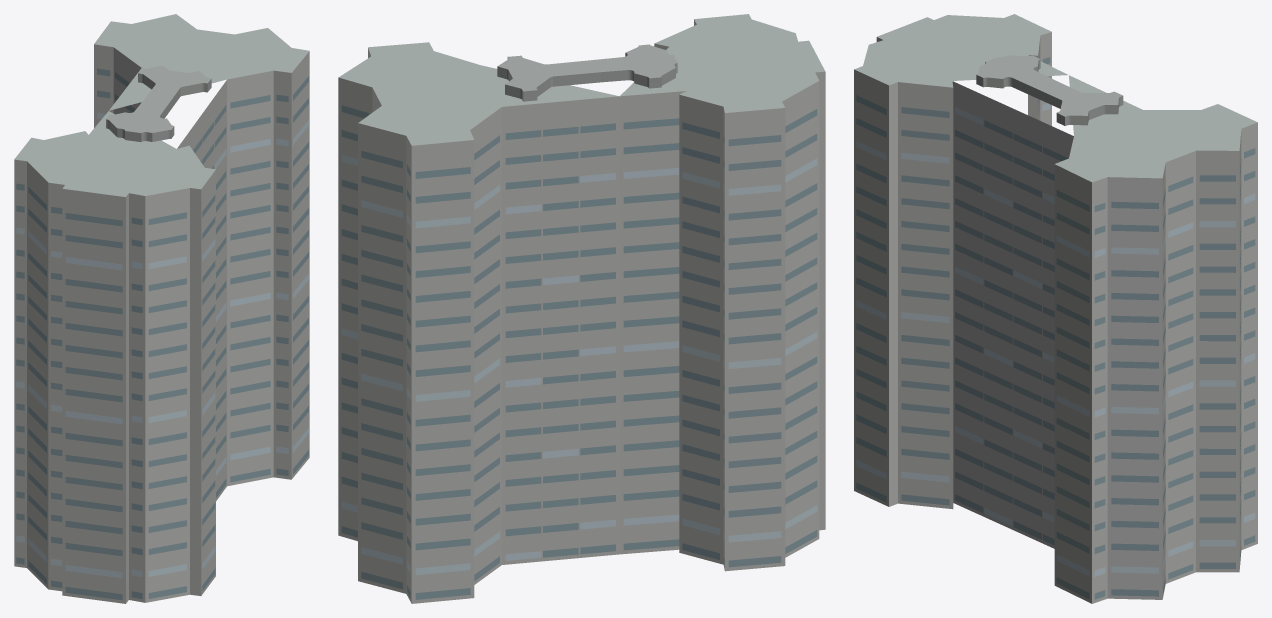
File: apt-a12170402.glb
3 views of the same model, side by side, from view 1: azimuth 30°, elevation 25°; view 2: azimuth 150°, elevation 25°; view 3: azimuth 270°, elevation 25° (orthographic). The views are drawn at different scales.
Visible parts, largest first — view 1: apt-a12170402; view 2: apt-a12170402; view 3: apt-a12170402.
Part boxes in pixels (<box>): apt-a12170402: <box>14,14,309,603</box>; apt-a12170402: <box>338,14,825,603</box>; apt-a12170402: <box>854,14,1257,603</box>.
Size of the model in its own units: 92.2 by 110 by 93.4.
